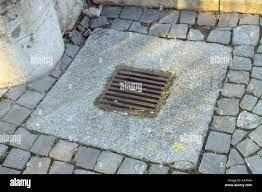closed manhole-not overflowing-: (77, 31, 207, 167)
